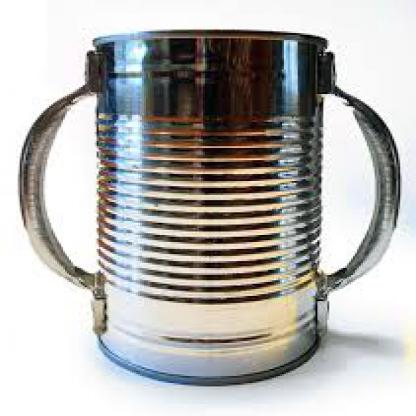METAL: (18, 28, 400, 379)
